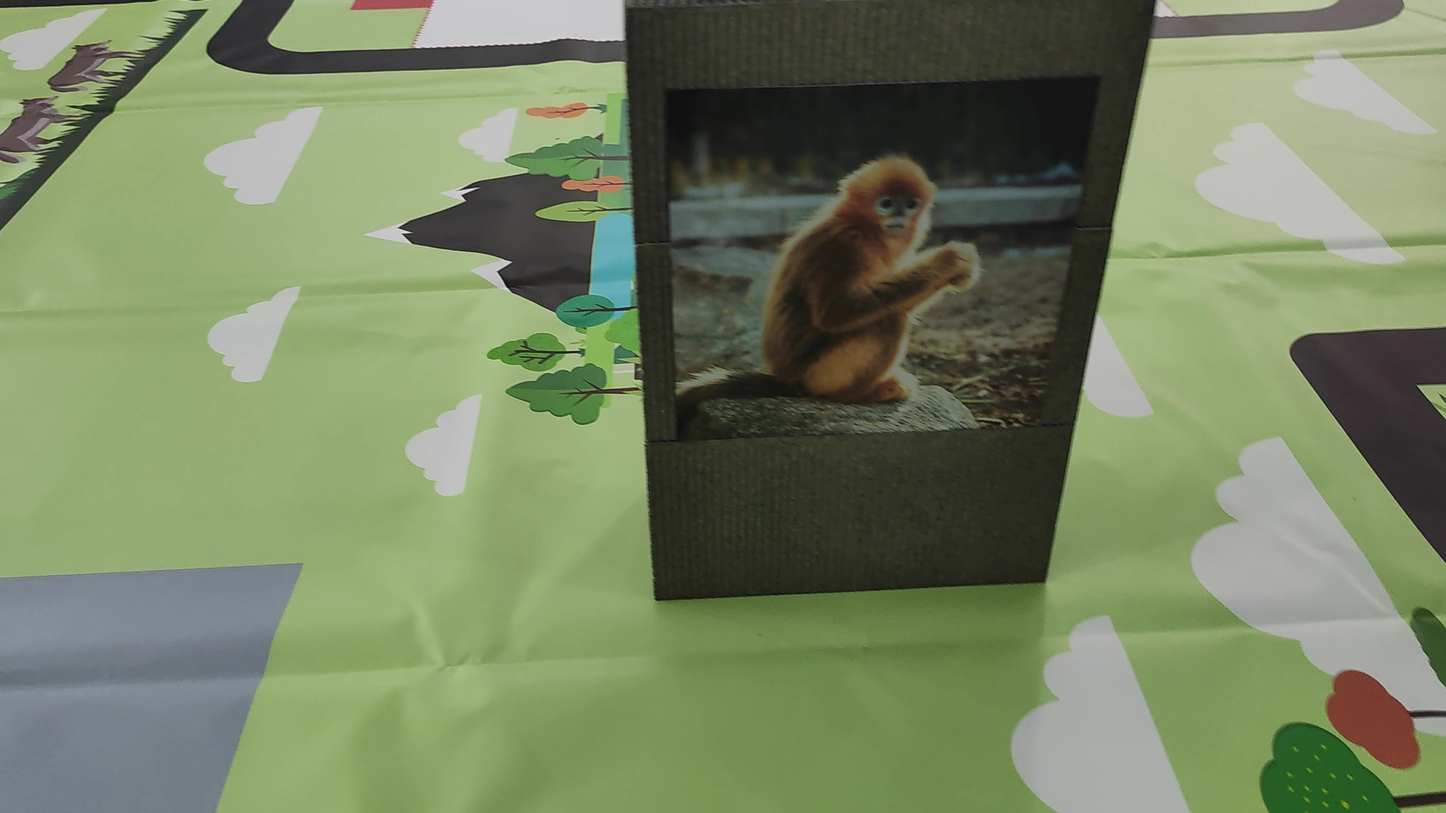monkey: (715, 142, 1011, 407)
